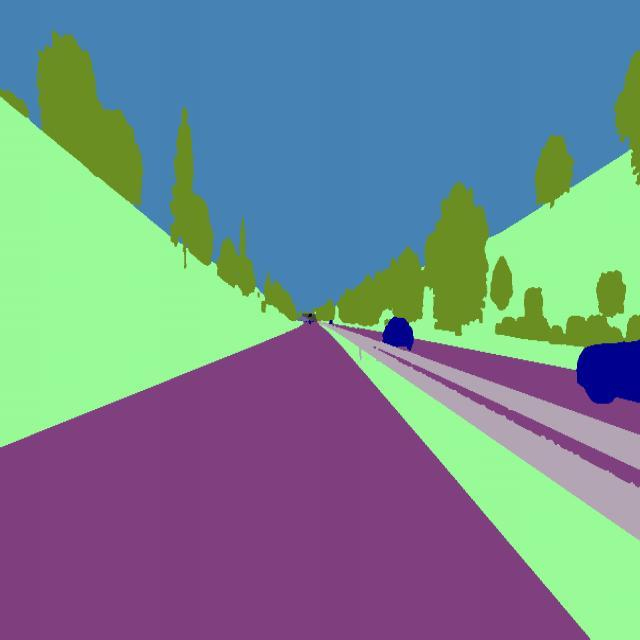safe: (576, 334, 640, 411), (381, 313, 416, 357)
